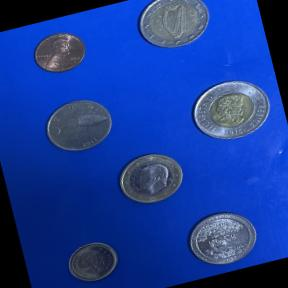1 Euro-B: (108, 144, 194, 216)
2 Euro-B: (127, 0, 222, 59)
Canada-10cent-B: (57, 233, 127, 288)
Canada-2Dollar-B: (182, 67, 282, 153)
Croatia-2Kune-B: (36, 87, 122, 160)
US-1cent-B: (25, 22, 93, 82)
US-25cent-B: (176, 196, 265, 272)
